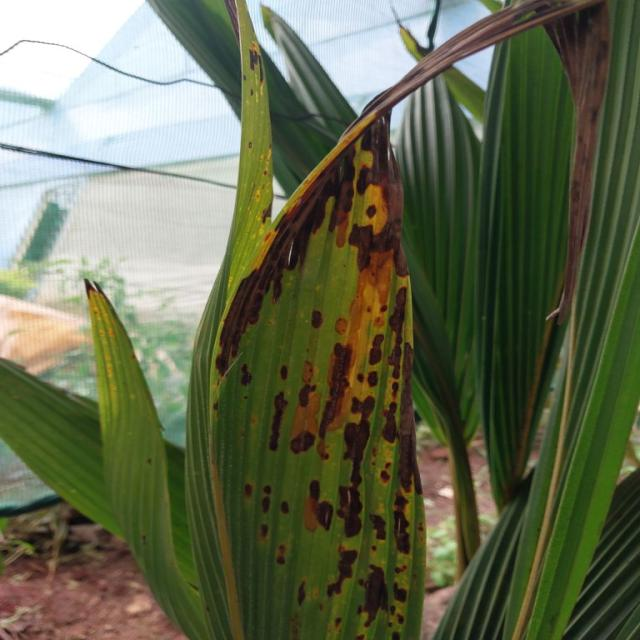gray leaf spot: (189, 0, 612, 640)
